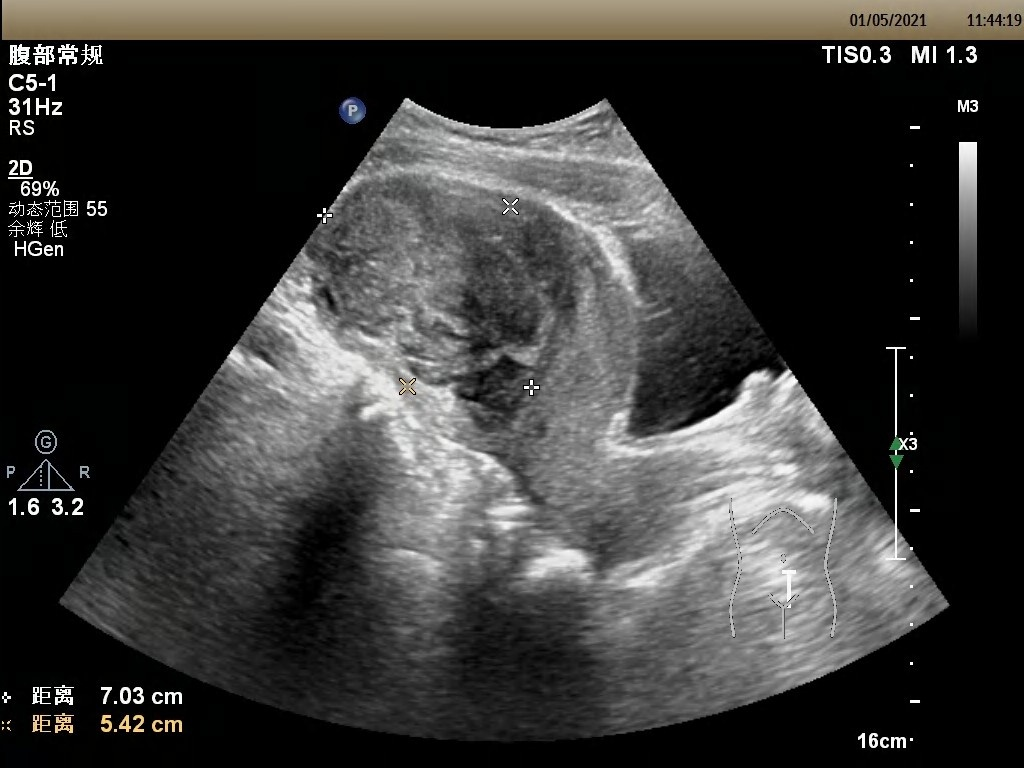肌瘤: (316, 180, 572, 385)
